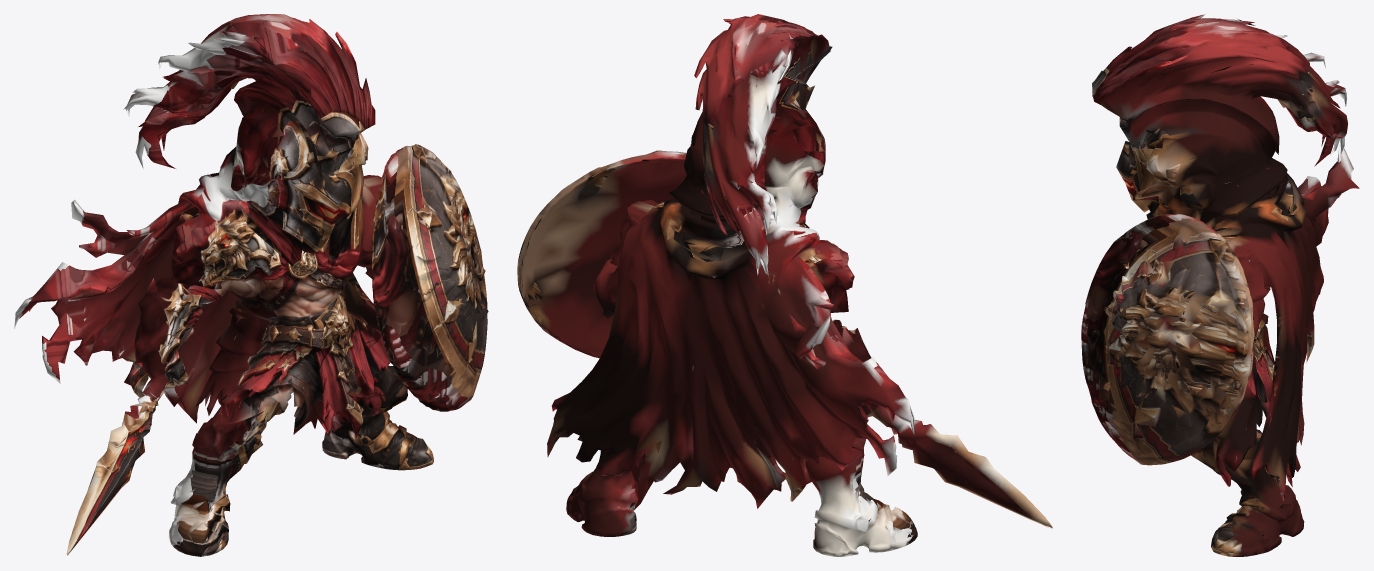
File: ares_painted.glb
The picture shows the model from 3 angles, left to right: view 1: azimuth 30°, elevation 25°; view 2: azimuth 150°, elevation 25°; view 3: azimuth 270°, elevation 25°; orthographic projection. The views are drawn at different scales.
Visible parts, largest first — view 1: Body; view 2: Body; view 3: Body.
Boxes of the visible parts, x1,y1,x2,y2 form: Body: [14, 14, 488, 556]; Body: [517, 14, 1052, 556]; Body: [1081, 14, 1359, 556].
Bounding box in the file's own units: 1 × 0.9957 × 0.5486.
2 materials, 2 textured.
